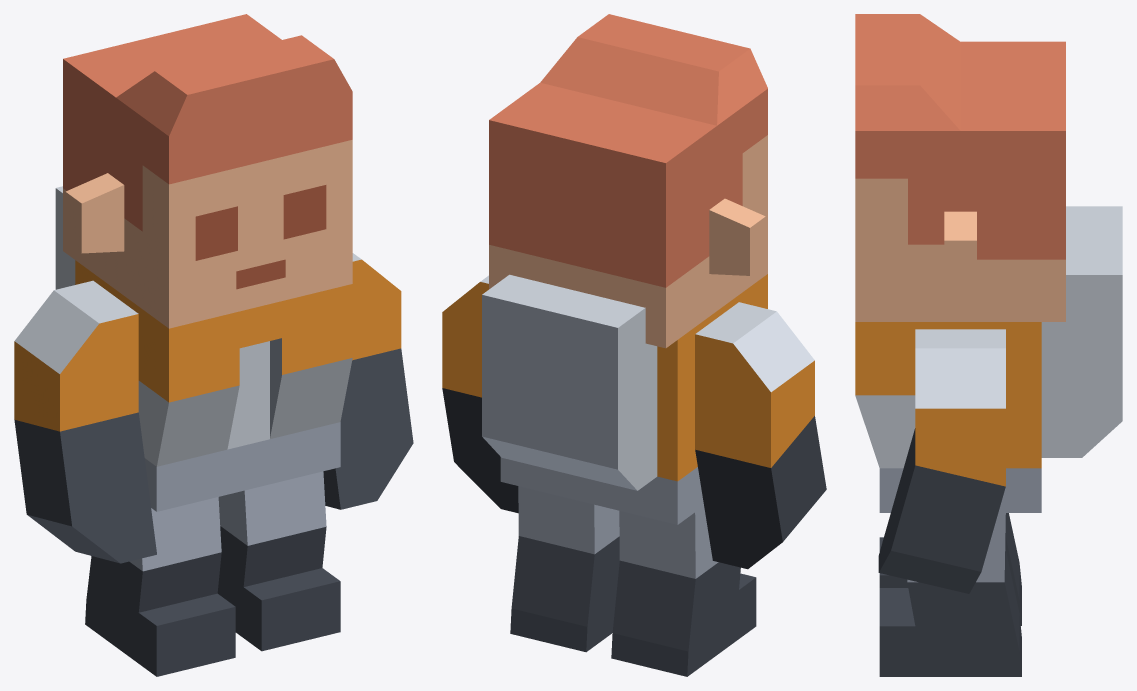
File: astronautA.obj
3 renders of one model, left to right at view 1: azimuth 30°, elevation 25°; view 2: azimuth 150°, elevation 25°; view 3: azimuth 270°, elevation 25°, orthographic. The views are drawn at different scales.
Visible parts, largest first — view 1: head, body, armRight, legRight, legLeft, armLeft; view 2: head, body, armRight, legRight, legLeft, armLeft; view 3: head, body, armLeft, legLeft, legRight.
Boxes of the visible parts, box(x1,y1,x2,y2) form: head: box(63, 14, 352, 328); body: box(55, 186, 352, 511); armRight: box(14, 280, 156, 563); legRight: box(85, 497, 235, 676); legLeft: box(217, 471, 340, 651); armLeft: box(323, 253, 413, 509); head: box(489, 14, 767, 348); body: box(482, 274, 767, 524); armRight: box(695, 302, 826, 569); legRight: box(611, 506, 756, 676); legLeft: box(510, 486, 619, 652); armLeft: box(442, 275, 518, 513); head: box(855, 14, 1065, 321); body: box(855, 206, 1122, 512); armLeft: box(878, 329, 1005, 593); legLeft: box(879, 513, 1021, 676); legRight: box(879, 513, 1021, 625).
Bounding box in the file's own units: 0.4832 × 0.7932 × 0.33.
